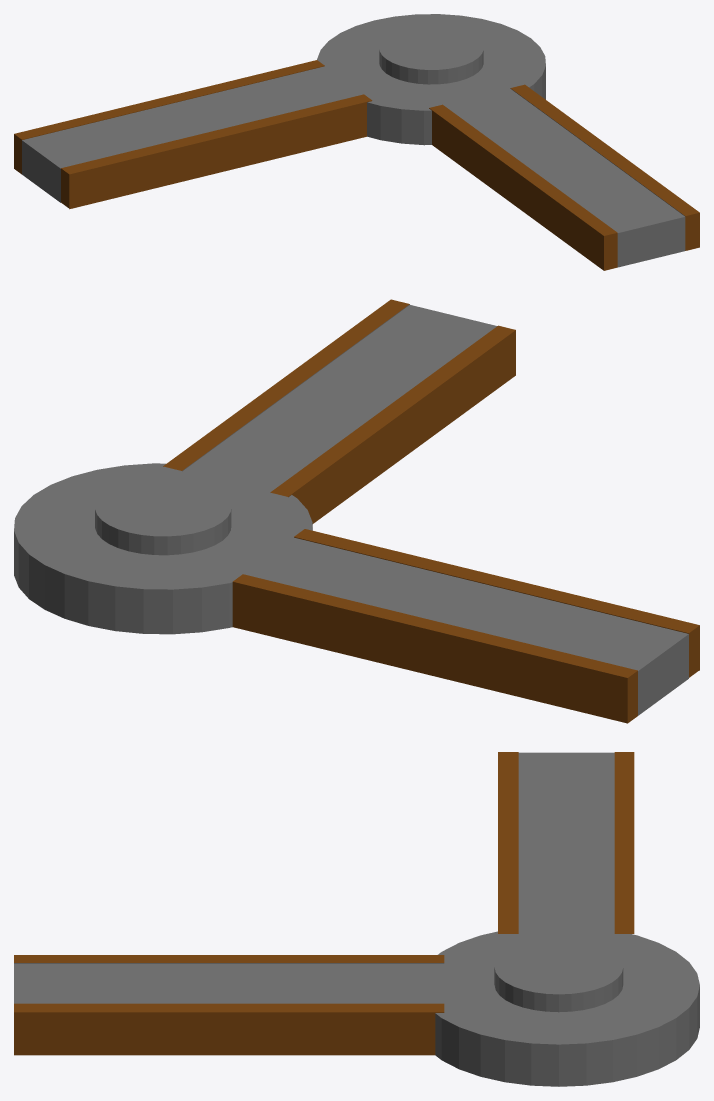
Rendered from carretera_Base_Mats 1.fbx.
The picture shows the model from 3 angles, top to bottom: view 1: azimuth 30°, elevation 25°; view 2: azimuth 150°, elevation 25°; view 3: azimuth 270°, elevation 25°; orthographic projection. The views are drawn at different scales.
Visible parts, largest first — view 1: Plane.001; view 2: Plane.001; view 3: Plane.001.
Part boxes in pixels (x1=…): Plane.001: x1=14, y1=14, x2=699, y2=270; Plane.001: x1=14, y1=299, x2=699, y2=723; Plane.001: x1=14, y1=752, x2=699, y2=1086.
Size of the model in its own units: 122 by 11.7 by 121.
